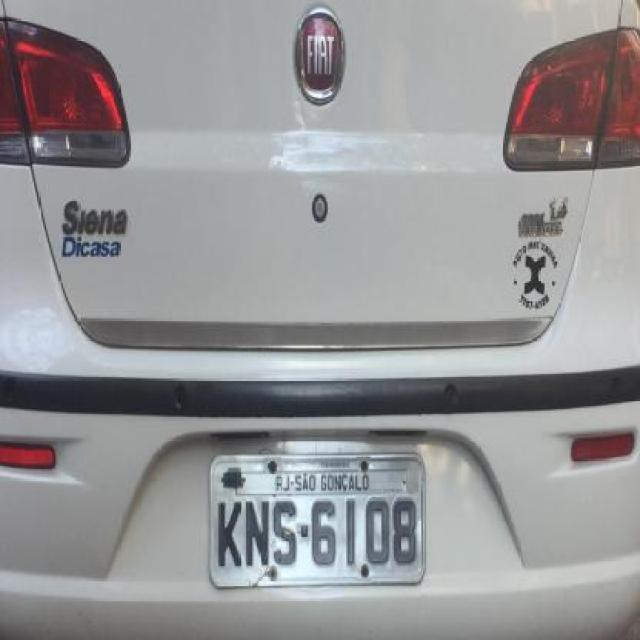old_plate: (204, 442, 431, 598)
